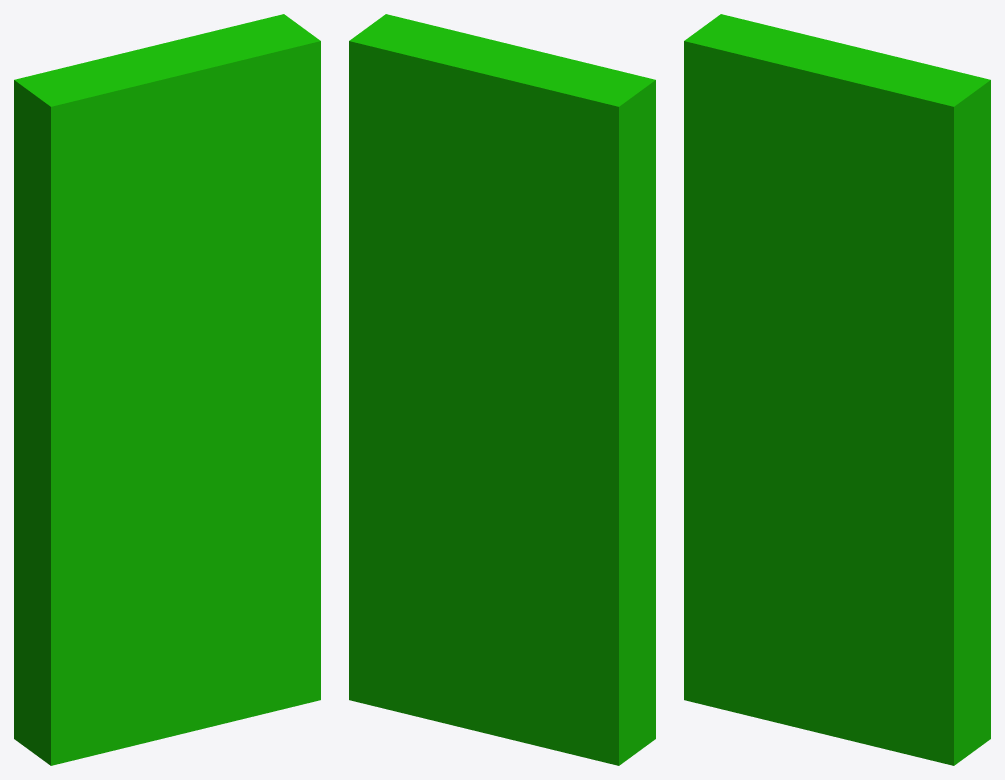
File: CTF_Flag.dae
The picture shows the model from 3 angles, left to right: view 1: azimuth 30°, elevation 25°; view 2: azimuth 150°, elevation 25°; view 3: azimuth 330°, elevation 25°; orthographic projection.
Visible parts, largest first — view 1: Bounds; view 2: Bounds; view 3: Bounds.
Part boxes in pixels (x1=…): Bounds: x1=14, y1=14, x2=320, y2=765; Bounds: x1=349, y1=14, x2=655, y2=765; Bounds: x1=684, y1=14, x2=990, y2=765.
Bounding box in the file's own units: 0.876 × 0.2075 × 2.05.
